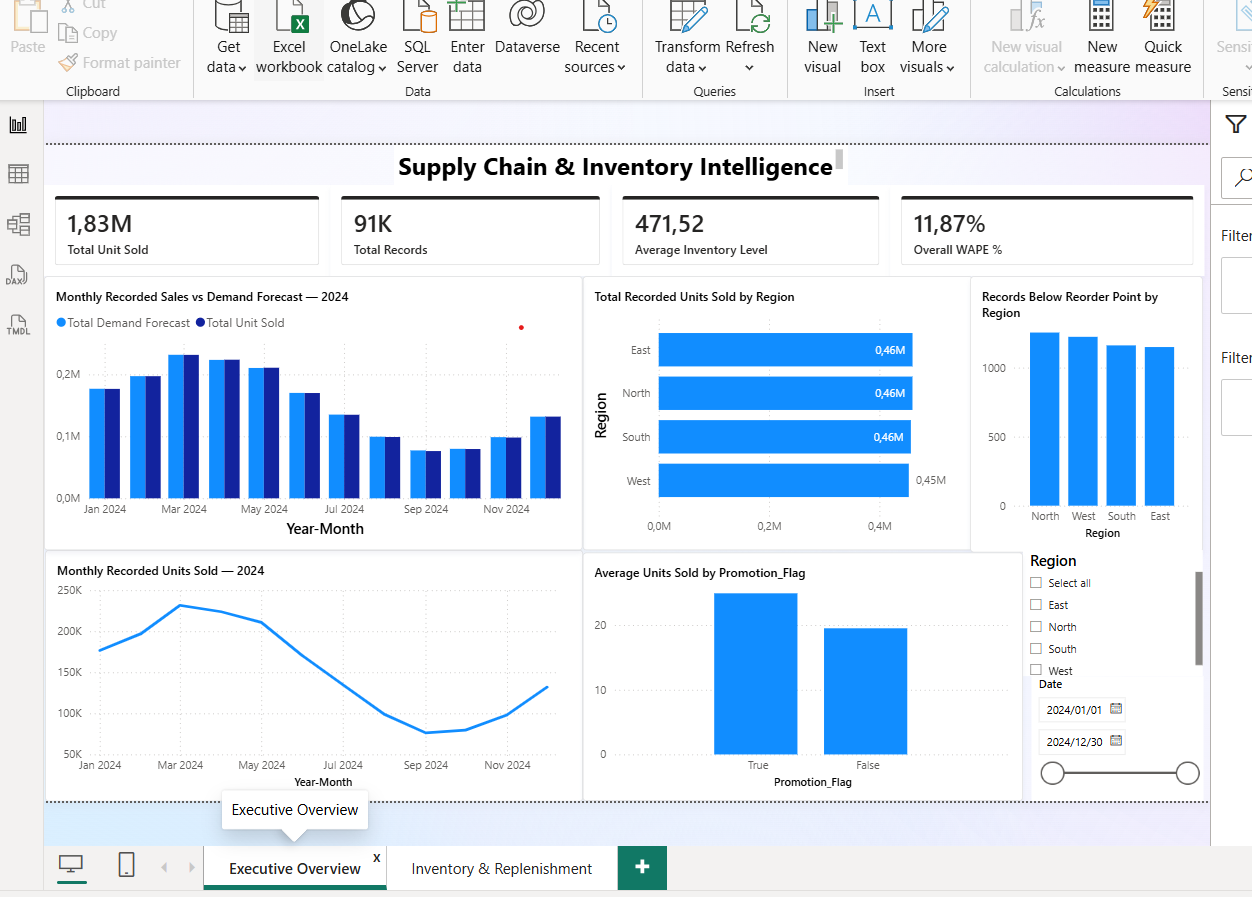

Layout of this report page (visuals, bound fields, positions):
{"tool":"powerbi","page":{"name":"Executive Overview","canvas":[1280,720],"ordinal":0},"visuals":[{"type":"cardVisual","fields":{"Data":["SupplyChain_Staging.Total Unit Sold"]},"box":[0,43.9,314.2,100.2],"z":0},{"type":"cardVisual","fields":{"Data":["SupplyChain_Staging.Total Records"]},"box":[314.2,43.9,308.7,100.2],"z":1000},{"type":"cardVisual","fields":{"Data":["SupplyChain_Staging.Average Inventory Level"]},"box":[623,43.9,306,100.2],"z":2000},{"type":"cardVisual","fields":{"Data":["SupplyChain_Staging.Overall WAPE %"]},"box":[929,43.9,345.8,100.2],"z":3000},{"type":"lineChart","title":"Monthly Recorded Units Sold — 2024","fields":{"Category":["DateTable.Year-Month"],"Y":["SupplyChain_Staging.Total Unit Sold"]},"box":[1.4,444.6,590.1,275.8],"z":4000},{"type":"clusteredBarChart","title":"Total Recorded Units Sold by Region","fields":{"Category":["SupplyChain_Staging.Region"],"Y":["SupplyChain_Staging.Total Unit Sold"]},"box":[591.4,144.1,428.1,300.5],"z":5000},{"type":"clusteredColumnChart","fields":{"Y":["SupplyChain_Staging.Records Below Reorder Point"],"Category":["SupplyChain_Staging.Region"]},"box":[1016.8,144.1,255.2,303.3],"z":6000},{"type":"slicer","fields":{"Values":["SupplyChain_Staging.Region"]},"box":[1074.4,444.6,197.6,138.6],"z":7000},{"type":"slicer","fields":{"Values":["DateTable.Date"]},"box":[1084.1,583.2,188,137.2],"z":8000},{"type":"clusteredColumnChart","fields":{"Category":["SupplyChain_Staging.Promotion_Flag"],"Y":["SupplyChain_Staging.Average Units Sold"]},"box":[591.4,447.3,483,273.1],"z":9000},{"type":"clusteredColumnChart","title":"Monthly Recorded Sales vs Demand Forecast — 2024","fields":{"Category":["DateTable.Year-Month"],"Y":["SupplyChain_Staging.Total Demand Forecast","SupplyChain_Staging.Total Unit Sold"]},"box":[0,144.1,591.4,300.5],"z":10000},{"type":"textbox","box":[384.2,0,498.1,43.9],"z":11000}]}

Visuals, with their boxes on the page's 1280x720 design canvas (x1, y1, x2, y2). These are canvas units, not pixel positions in the 1252x897 screenshot, which may show the page scaled, cropped or inside an application window:
cardVisual - SupplyChain_Staging.Total Unit Sold: [0,44,314,144]
cardVisual - SupplyChain_Staging.Total Records: [314,44,623,144]
cardVisual - SupplyChain_Staging.Average Inventory Level: [623,44,929,144]
cardVisual - SupplyChain_Staging.Overall WAPE %: [929,44,1275,144]
"Monthly Recorded Units Sold — 2024" lineChart: [1,445,592,720]
"Total Recorded Units Sold by Region" clusteredBarChart: [591,144,1020,445]
clusteredColumnChart - SupplyChain_Staging.Records Below Reorder Point x SupplyChain_Staging.Region: [1017,144,1272,447]
slicer - SupplyChain_Staging.Region: [1074,445,1272,583]
slicer - DateTable.Date: [1084,583,1272,720]
clusteredColumnChart - SupplyChain_Staging.Promotion_Flag x SupplyChain_Staging.Average Units Sold: [591,447,1074,720]
"Monthly Recorded Sales vs Demand Forecast — 2024" clusteredColumnChart: [0,144,591,445]
textbox: [384,0,882,44]
